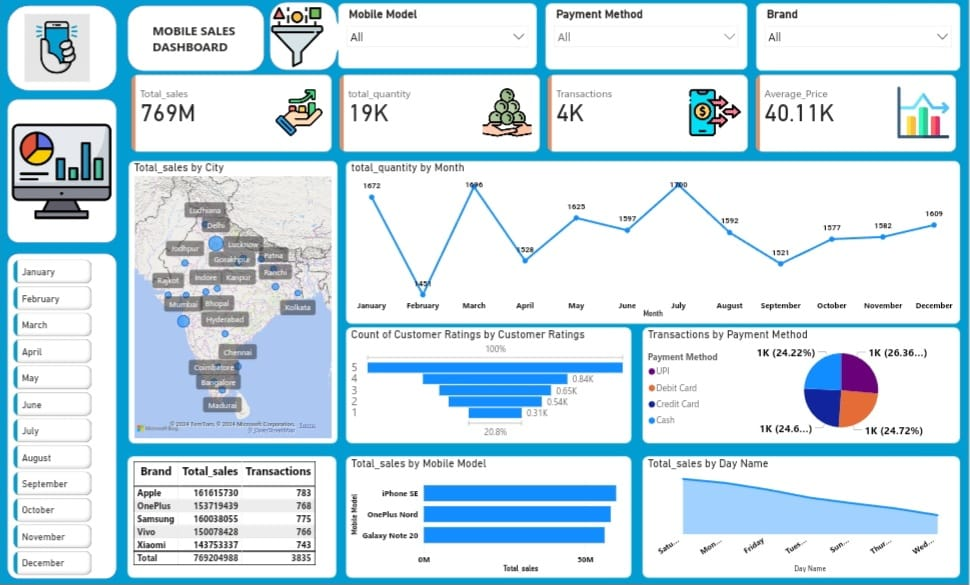

The dashboard page shown, as its layout file describes it:
{"tool":"powerbi","page":{"name":"Dashboard","canvas":[1500,910],"ordinal":0},"visuals":[{"type":"shape","box":[12.4,157.7,170.1,223.2],"z":0},{"type":"shape","box":[12.4,395.1,170.1,504.9],"z":1000},{"type":"advancedSlicerVisual","fields":{"Values":["custom_calender.Date.Variation.Date Hierarchy.Month"]},"box":[17.7,400.4,131.1,499.6],"z":2000},{"type":"cardVisual","fields":{"Data":["abhi.Total_sales","abhi.total_quantity","abhi.Transactions","abhi.Average_Price"]},"box":[198.8,114.6,1288,130.8],"z":3000},{"type":"shape","box":[12.4,12.4,170.1,132.9],"z":4000},{"type":"image","box":[17.7,21.3,145.3,115.2],"z":5000},{"type":"slicer","fields":{"Values":["abhi.Mobile Model"]},"box":[523.1,9,308.1,102.1],"z":6000},{"type":"slicer","fields":{"Values":["abhi.Payment Method"]},"box":[843.7,9,313.5,103.9],"z":7000},{"type":"slicer","fields":{"Values":["abhi.Brand"]},"box":[1169.7,9,317.1,105.7],"z":8000},{"type":"shape","box":[418.1,7.1,104.5,106.3],"z":9000},{"type":"image","box":[401.3,7.2,120,109.3],"z":10000},{"type":"shape","box":[501.6,30.5,34,60.9],"z":11000},{"type":"shape","box":[198.4,12.4,212.6,102.8],"z":12000},{"type":"textbox","box":[232.1,33.7,145.3,60.2],"z":13000},{"type":"map","fields":{"Category":["abhi.City"],"Size":["abhi.Total_sales"]},"box":[198.8,252.6,324.2,438.9],"z":14000},{"type":"lineChart","fields":{"Y":["abhi.total_quantity"],"Category":["custom_calender.Date.Variation.Date Hierarchy.Month"]},"box":[535,253.3,951.4,253.3],"z":15000},{"type":"funnel","fields":{"Category":["abhi.Customer Ratings"],"Y":["CountNonNull(abhi.Customer Ratings)"]},"box":[535,510.2,442.9,180.7],"z":16000},{"type":"pieChart","fields":{"Y":["abhi.Transactions"],"Category":["abhi.Payment Method"]},"box":[993.9,510.2,492.5,180.7],"z":17000},{"type":"clusteredBarChart","fields":{"Y":["abhi.Total_sales"],"Category":["abhi.Mobile Model"]},"box":[535,710.4,442.9,189.6],"z":18000},{"type":"areaChart","fields":{"Y":["abhi.Total_sales"],"Category":["custom_calender.Day Name"]},"box":[993.9,710.4,492.5,189.6],"z":19000},{"type":"tableEx","fields":{"Values":["abhi.Brand","abhi.Total_sales","abhi.Transactions"]},"box":[198.4,710.4,324.2,189.6],"z":20000},{"type":"image","box":[7.1,184.3,178.9,170.1],"z":21000}]}

Visuals, with their boxes in screenshot pixels (x1, y1, x2, y2), scaled from the page's 1500x910 canvas onto the 970x585 screenshot:
shape: (x1=8, y1=101, x2=118, y2=245)
shape: (x1=8, y1=254, x2=118, y2=579)
advancedSlicerVisual - custom_calender.Date.Variation.Date Hierarchy.Month: (x1=11, y1=257, x2=96, y2=579)
cardVisual - abhi.Total_sales x abhi.total_quantity: (x1=129, y1=74, x2=961, y2=158)
shape: (x1=8, y1=8, x2=118, y2=93)
image: (x1=11, y1=14, x2=105, y2=88)
slicer - abhi.Mobile Model: (x1=338, y1=6, x2=538, y2=71)
slicer - abhi.Payment Method: (x1=546, y1=6, x2=748, y2=73)
slicer - abhi.Brand: (x1=756, y1=6, x2=961, y2=74)
shape: (x1=270, y1=5, x2=338, y2=73)
image: (x1=260, y1=5, x2=337, y2=75)
shape: (x1=324, y1=20, x2=346, y2=59)
shape: (x1=128, y1=8, x2=266, y2=74)
textbox: (x1=150, y1=22, x2=244, y2=60)
map - abhi.City x abhi.Total_sales: (x1=129, y1=162, x2=338, y2=445)
lineChart - abhi.total_quantity x custom_calender.Date.Variation.Date Hierarchy.Month: (x1=346, y1=163, x2=961, y2=326)
funnel - abhi.Customer Ratings x CountNonNull(abhi.Customer Ratings): (x1=346, y1=328, x2=632, y2=444)
pieChart - abhi.Transactions x abhi.Payment Method: (x1=643, y1=328, x2=961, y2=444)
clusteredBarChart - abhi.Total_sales x abhi.Mobile Model: (x1=346, y1=457, x2=632, y2=579)
areaChart - abhi.Total_sales x custom_calender.Day Name: (x1=643, y1=457, x2=961, y2=579)
tableEx - abhi.Brand x abhi.Total_sales: (x1=128, y1=457, x2=338, y2=579)
image: (x1=5, y1=118, x2=120, y2=228)
